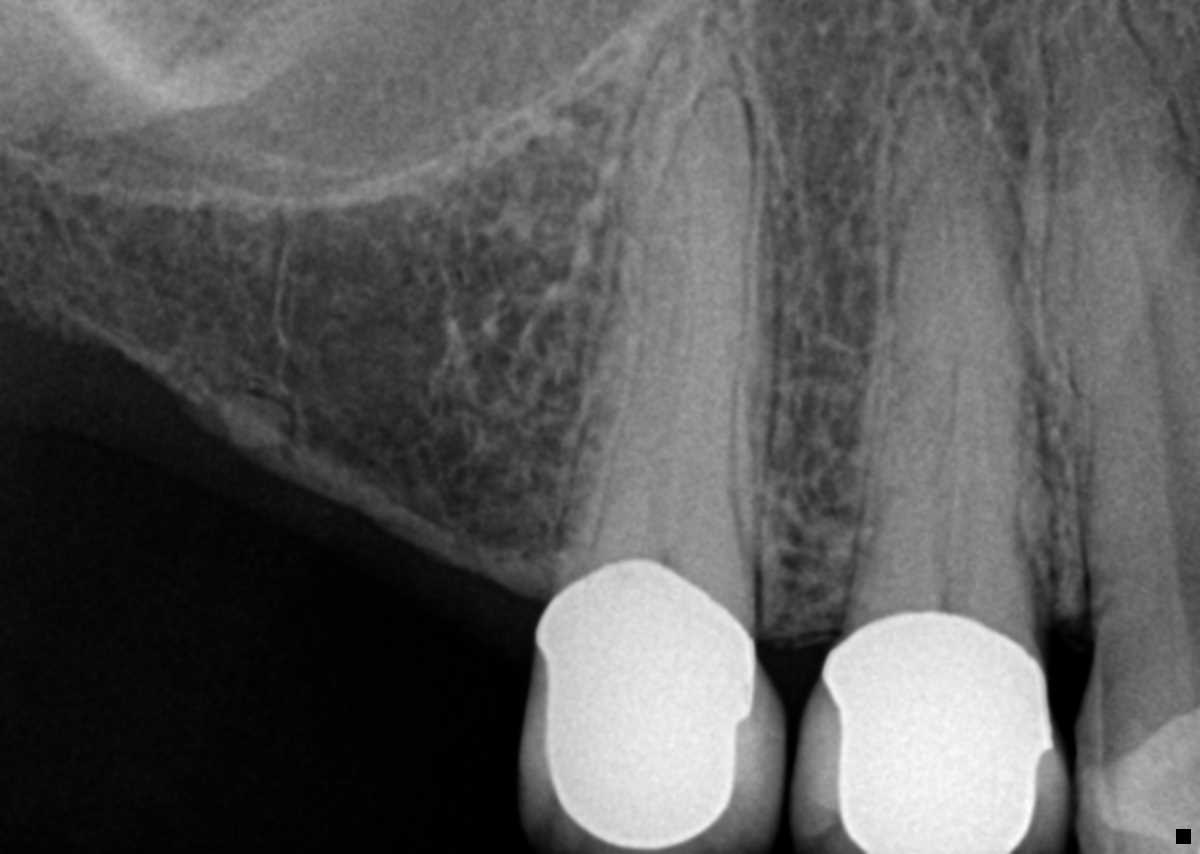Main Canal: (1086, 26, 1200, 533)
Main Root: (557, 21, 780, 564), (847, 88, 1055, 580), (1034, 0, 1200, 565)
